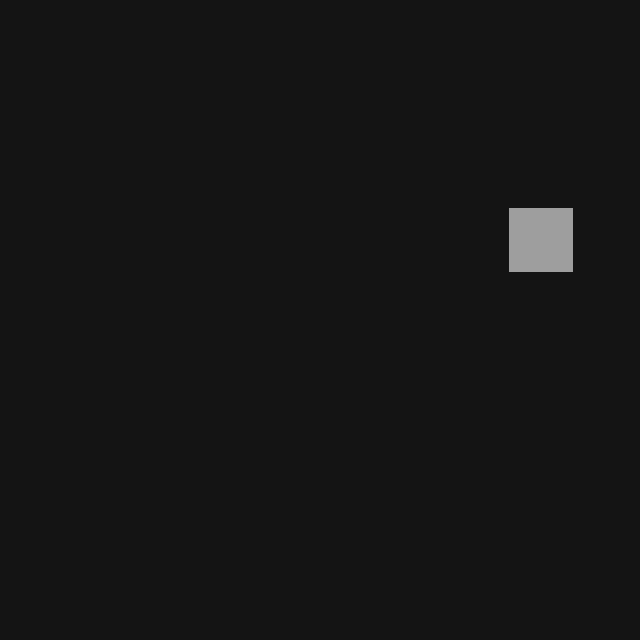square: (509, 208, 572, 271)
